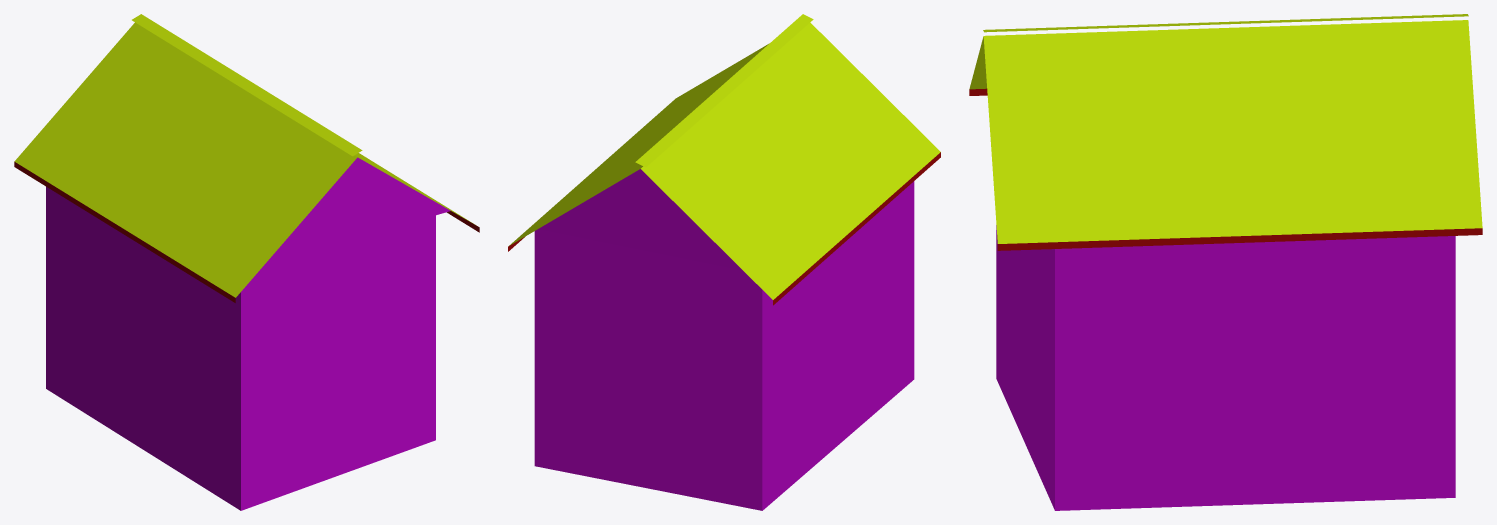
The model's file is dol_14.glb.
3 renders of one model, left to right at view 1: azimuth 30°, elevation 25°; view 2: azimuth 150°, elevation 25°; view 3: azimuth 270°, elevation 25°, orthographic. The views are drawn at different scales.
Parts seen in each view (by area): view 1: dol_14; view 2: dol_14; view 3: dol_14.
Boxes of the visible parts, box(x1,y1,x2,y2) form: dol_14: box(14, 14, 479, 510); dol_14: box(508, 14, 940, 510); dol_14: box(969, 14, 1482, 510).
Bounding box in the file's own units: 6.47 × 7.37 × 8.23.
